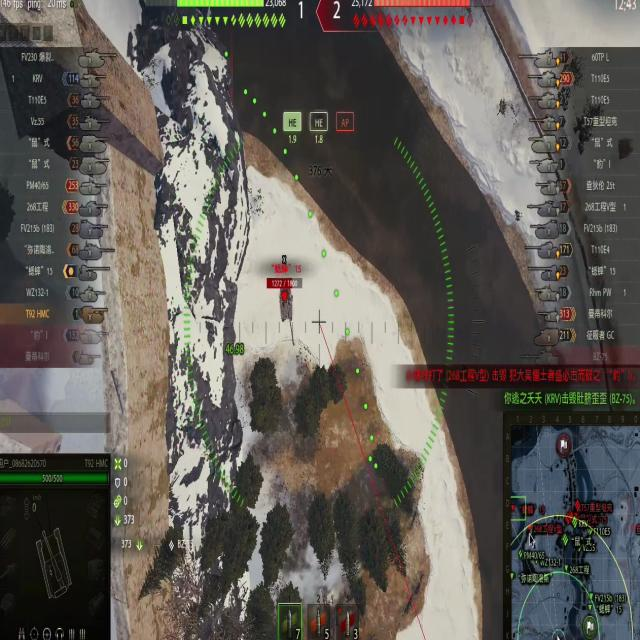tank: (264, 275, 304, 332)
